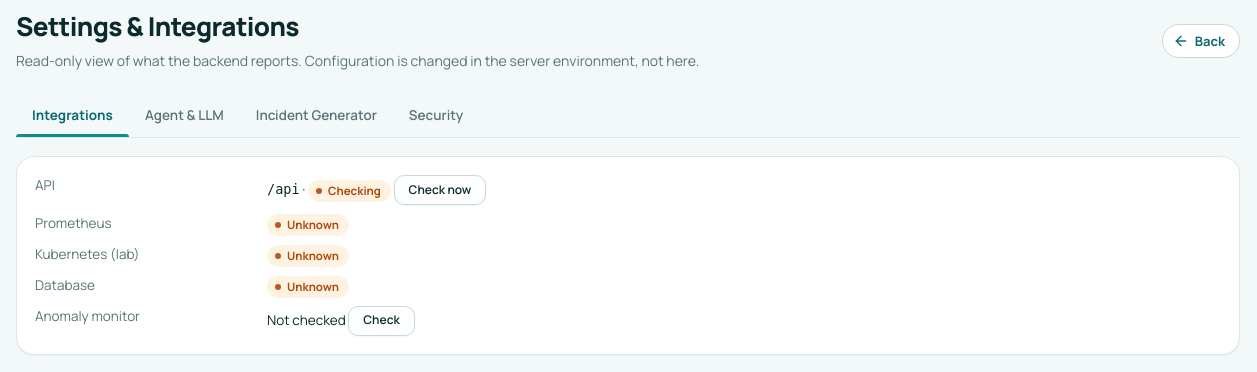
Test: lab incident generator settings › shows the four-service simulator under Incident generator, without the old lab content
The width and height of the screenshot is (1257, 372).
Click the tab "Incident generator" at (316, 115), box [240, 94, 393, 137]
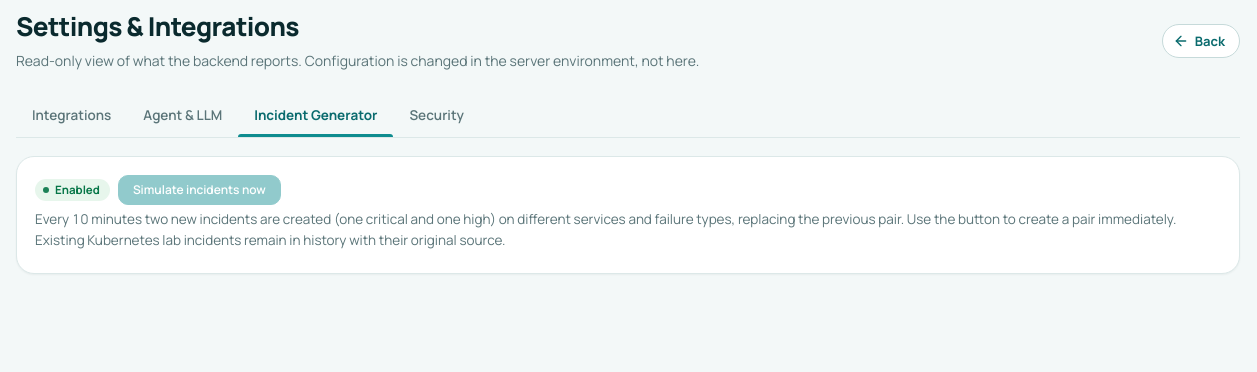
Now the text "enabled" is shown, box [35, 179, 110, 201]
Now the text "Use the button to create a pair immediately" is shown, box [35, 210, 1176, 249]
